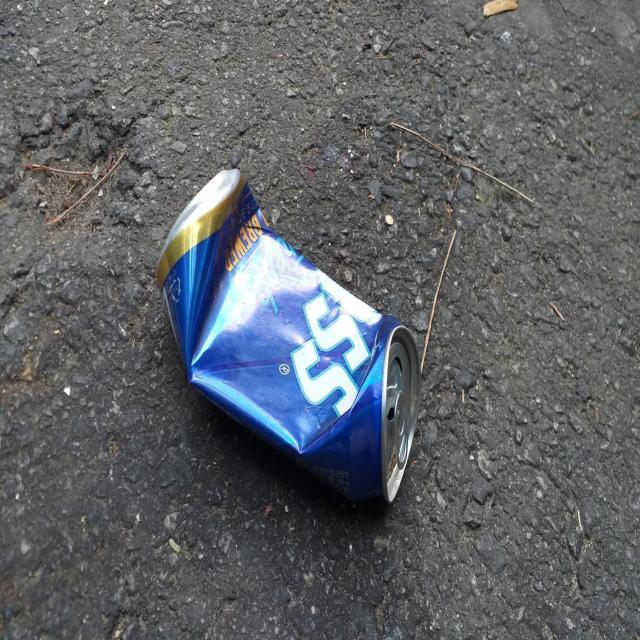can: (156, 168, 421, 502)
